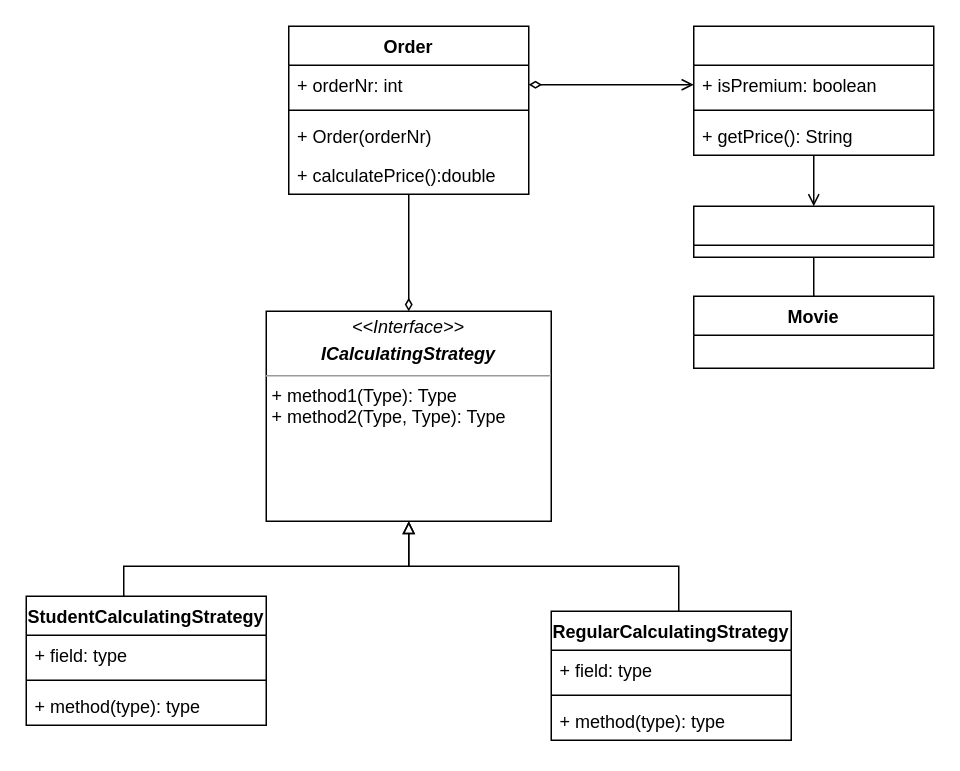
The diagram is 960 pixels wide and 771 high, and some of its shapes have lost their labels. The box of each missing label's shape, as (x1, y1, x2, y2) in pixels:
MovieScreening: (692, 205, 934, 257)
MovieTicket: (692, 25, 934, 155)
